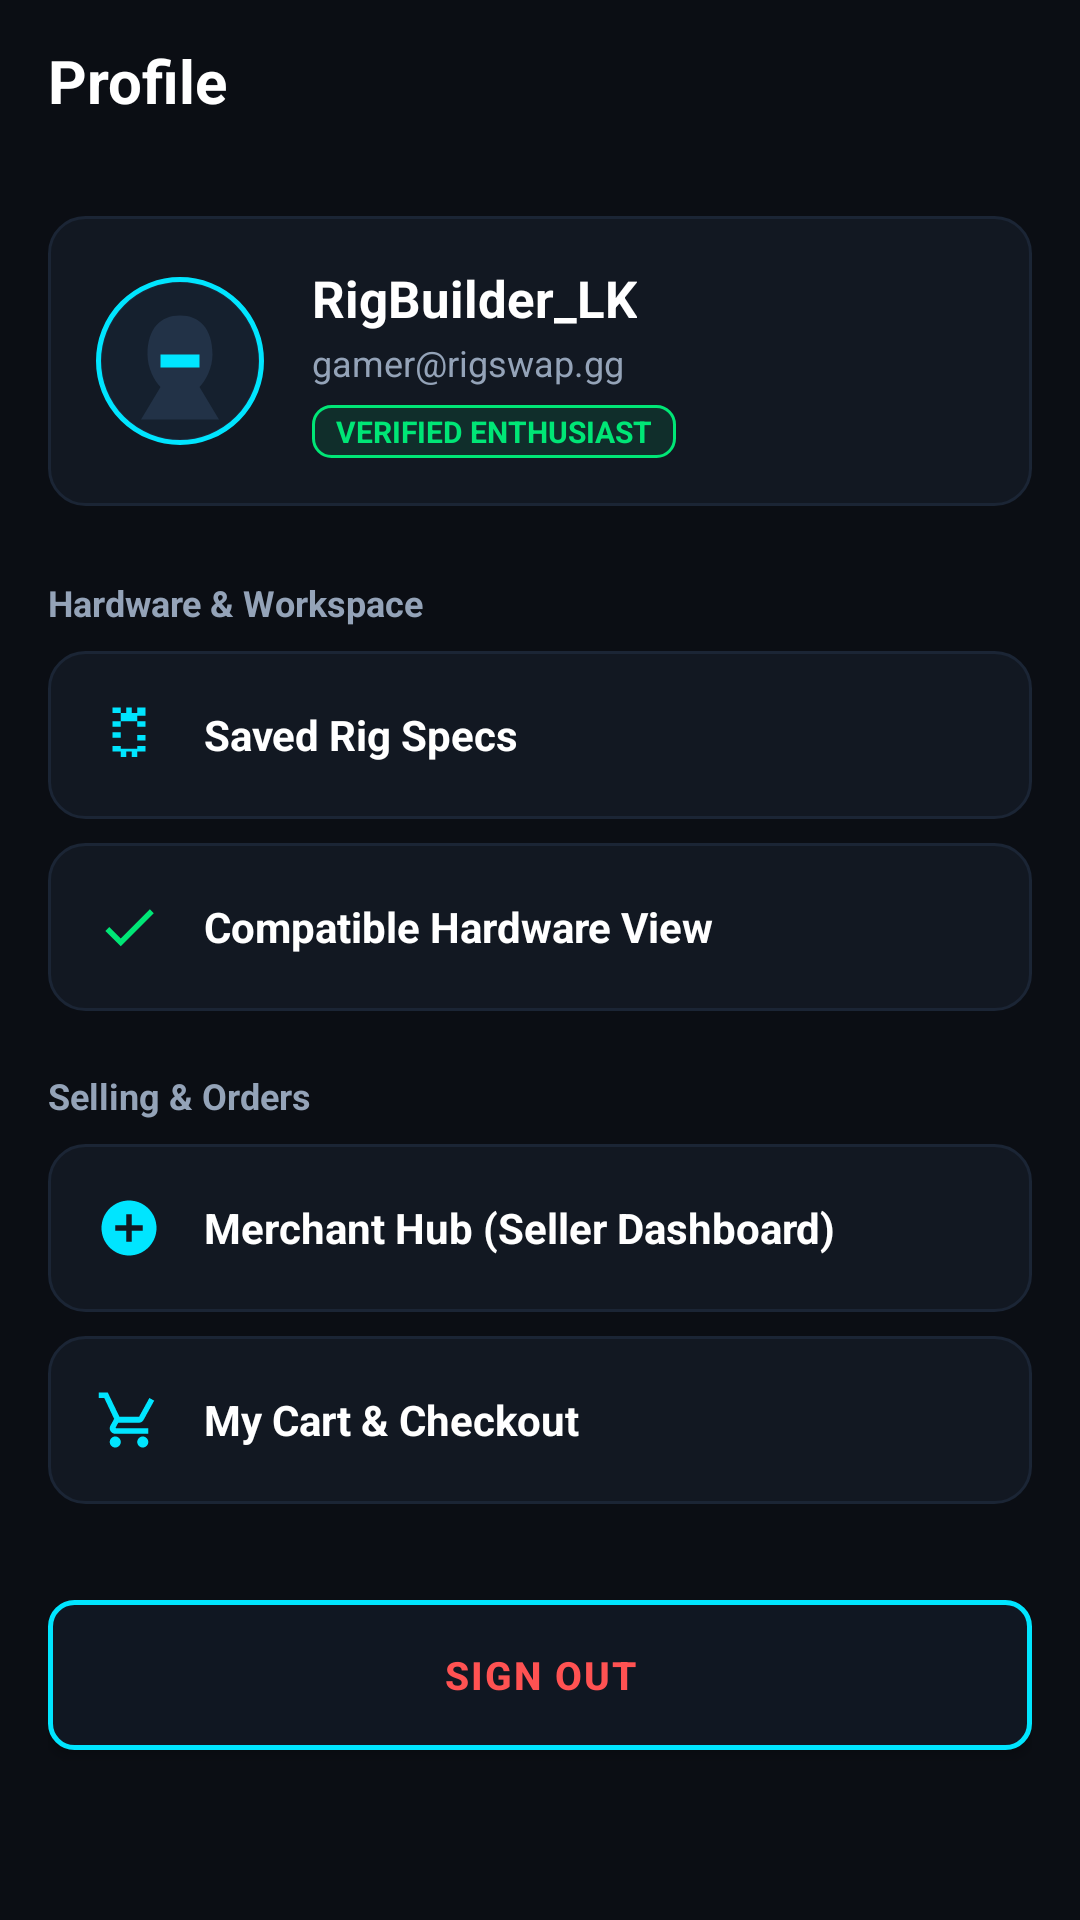

Where icons sit on this 1080*1920 app screen, as (x1, y1, x2, y2):
check: (105, 909, 154, 946)
chip: (112, 707, 146, 757)
